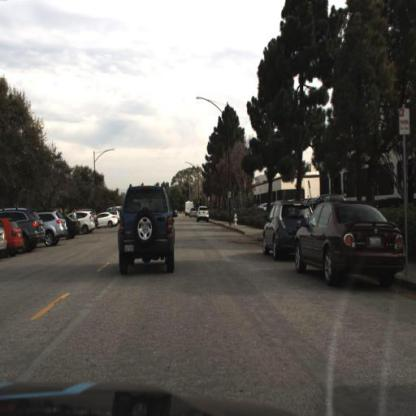car: (294, 199, 408, 291), (115, 182, 175, 278), (259, 199, 315, 260), (3, 206, 46, 257), (38, 208, 69, 250), (1, 216, 25, 256), (23, 211, 45, 253), (68, 213, 98, 237), (65, 215, 83, 243), (97, 209, 121, 230), (197, 205, 211, 225)
pedestrian: (70, 206, 80, 241)
